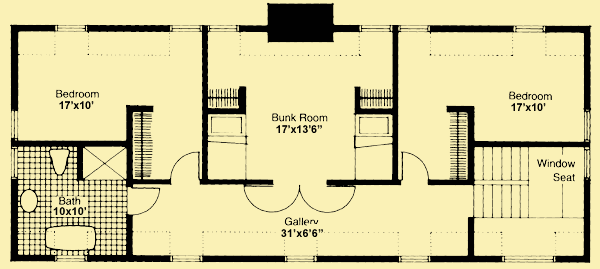bed: (355, 111, 397, 184), (207, 113, 249, 180)
door: (168, 150, 205, 189), (397, 149, 432, 189), (127, 184, 163, 217)
large sink: (46, 148, 73, 178)
small sink: (20, 186, 41, 217)
stairs: (468, 144, 586, 225)
tub: (42, 223, 100, 253)
windows: (356, 21, 434, 38), (579, 106, 595, 183), (167, 20, 242, 36), (498, 253, 559, 267), (9, 106, 20, 178), (508, 20, 548, 37), (282, 250, 321, 267), (52, 20, 90, 37), (397, 252, 432, 267), (167, 252, 206, 265)
